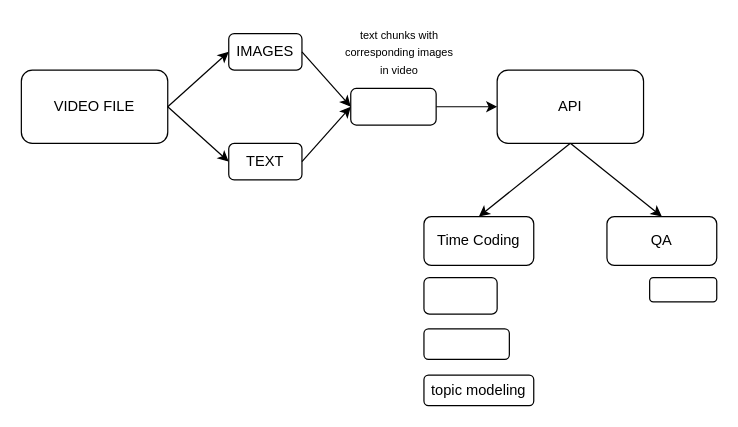
Some shapes in this 738 by 427 pixel diagram are drawn without their labels. Here are the shapes that lost their labels. From the top down, the centre of each, then its label:
At [393,106]: "COMPLEX CHUNKS".
At [460,295]: "semantic".
At [682,289]: "ViT".
At [466,343]: "clustering".
